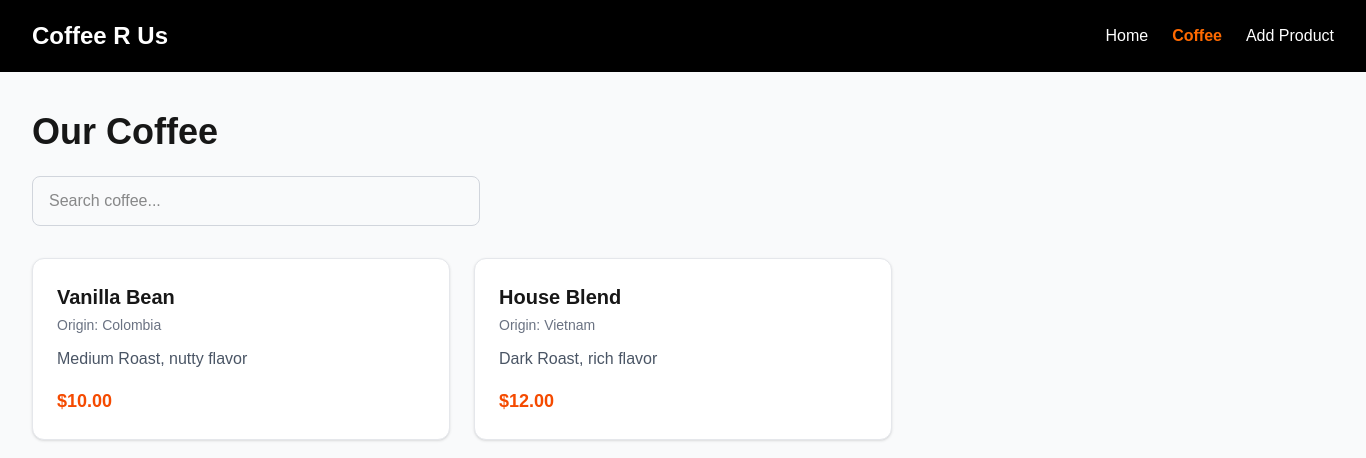
Test: shows a message when nothing matches the search
Expected: the heading "Vanilla Bean" is shown, [57, 286, 175, 308]
Type "zzz" into the field with placeholder "Search coffee...". click: (256, 201)
box: [32, 176, 480, 226]
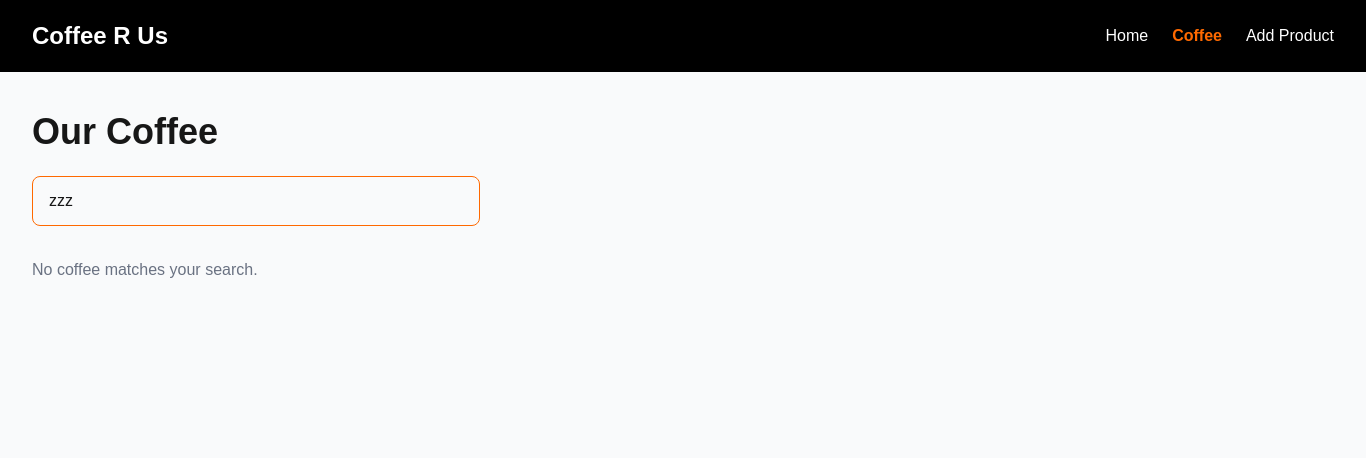
Result: the text "No coffee matches your search." is shown at [32, 261, 258, 278]
